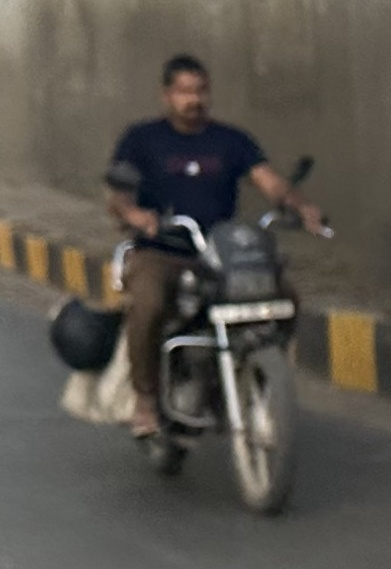BikeWithRider: (42, 49, 345, 522)
NoHelmet: (153, 50, 220, 135)
